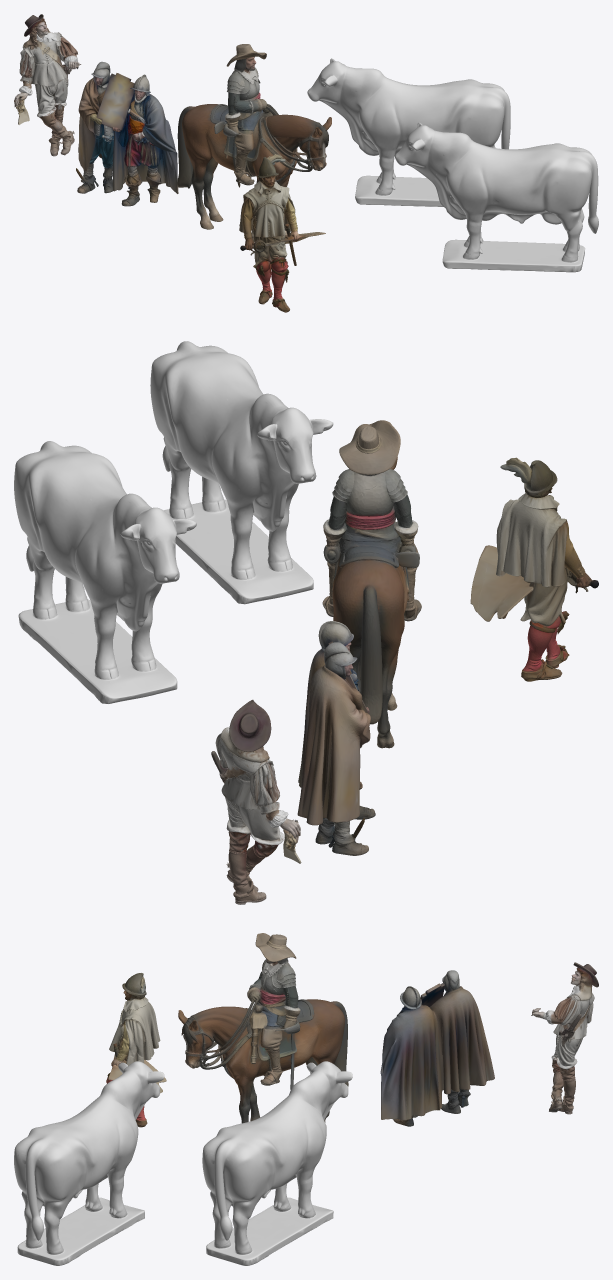
3 renders of one model, top to bottom at view 1: azimuth 30°, elevation 25°; view 2: azimuth 150°, elevation 25°; view 3: azimuth 270°, elevation 25°, orthographic. The views are drawn at different scales.
Size of the model in its own units: 8.72 by 4.88 by 12.23.
